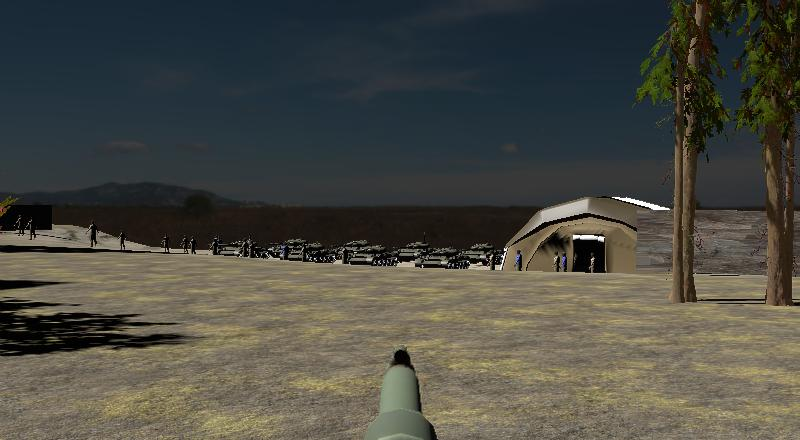Human: (84, 219, 101, 250), (117, 229, 129, 252), (513, 249, 524, 273), (559, 252, 570, 274)
Tank: (461, 241, 508, 268), (414, 247, 469, 270), (340, 238, 375, 264), (303, 242, 340, 264), (275, 236, 309, 259), (398, 241, 432, 263)
